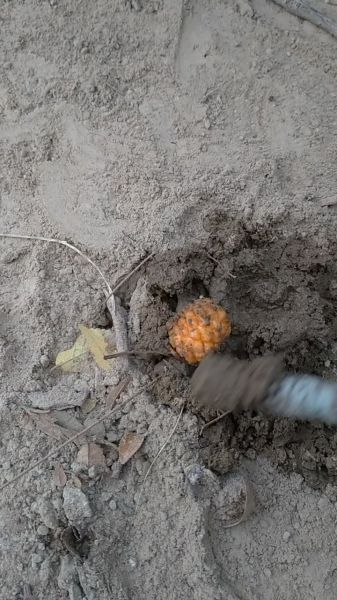eggs: (164, 297, 233, 364)
